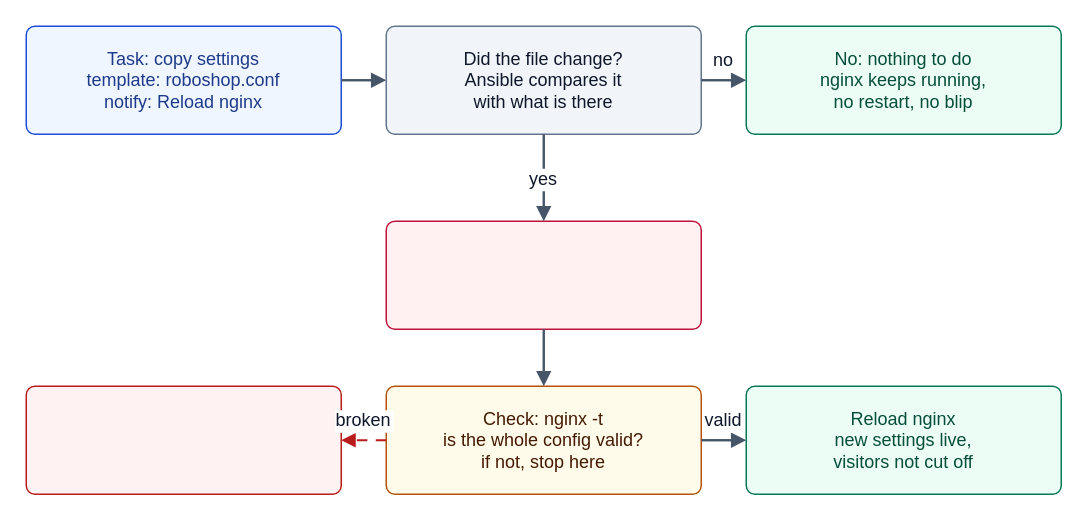
This 1088x521 diagram has some shape labels left out. Here are the shapes that lost their labels. From the top down, the centre of each, then its label:
[543,274]: Yes: handler queued waits until every task in the play is done
[183,439]: Run stops the live site keeps the old, working config
